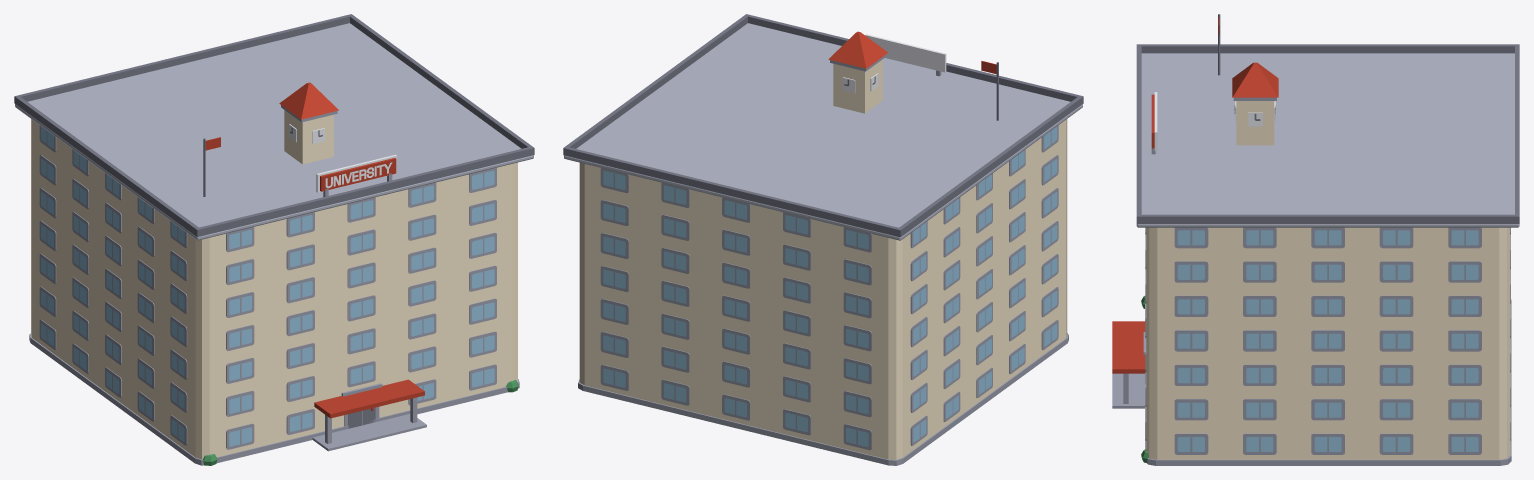
File: university-3x3-7f.glb
3 views of the same model, side by side, from view 1: azimuth 30°, elevation 25°; view 2: azimuth 150°, elevation 25°; view 3: azimuth 270°, elevation 25° (orthographic). The views are drawn at different scales.
Visible parts, largest first — view 1: university-3x3-7f; view 2: university-3x3-7f; view 3: university-3x3-7f.
Boxes of the visible parts, <box> form: university-3x3-7f: <box>14,14,534,465</box>; university-3x3-7f: <box>563,14,1083,465</box>; university-3x3-7f: <box>1112,14,1519,465</box>.
Bounding box in the file's own units: 3 × 2.6 × 3.
Materials: 1 (1 with a texture image).
